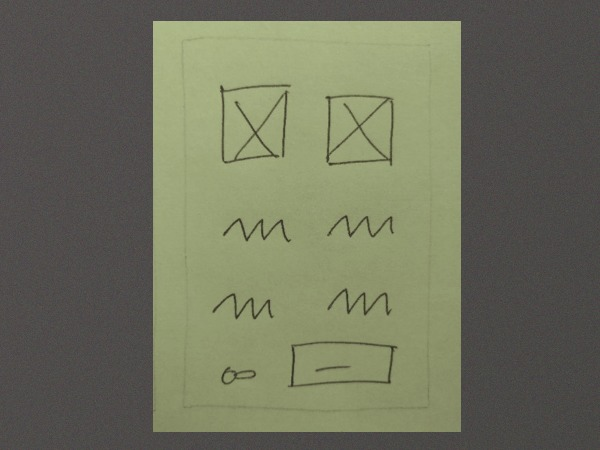button: (282, 334, 401, 394)
image: (211, 77, 299, 165), (315, 85, 400, 171)
switch: (211, 357, 265, 390)
text: (317, 277, 398, 325), (320, 203, 399, 251), (215, 206, 295, 251), (202, 282, 281, 326)
